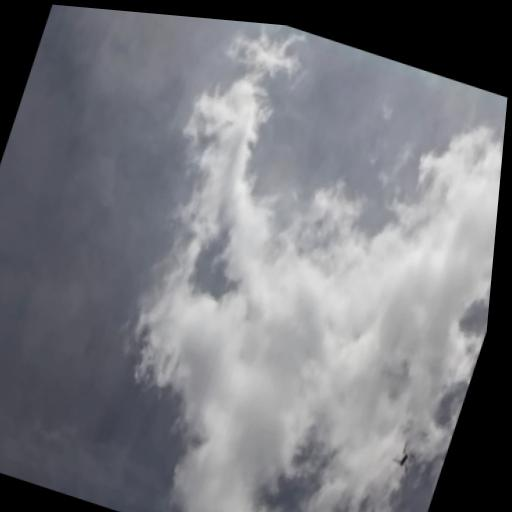drones: (386, 433, 423, 479)
